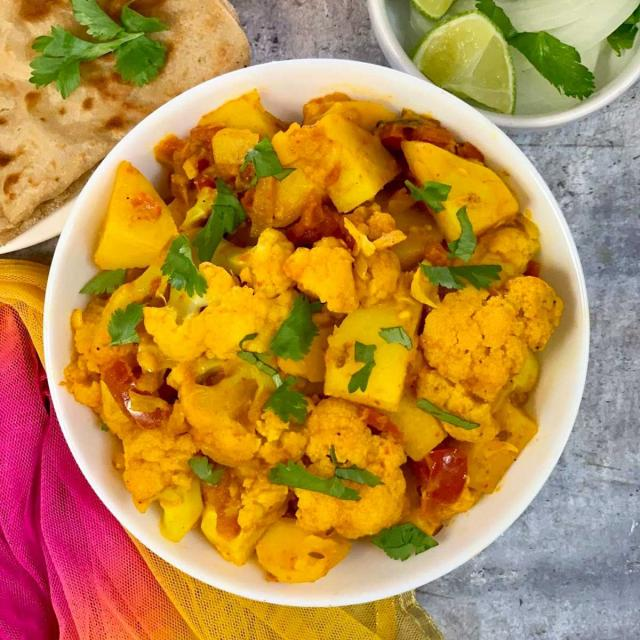Aloo Gobi: (75, 80, 566, 585)
